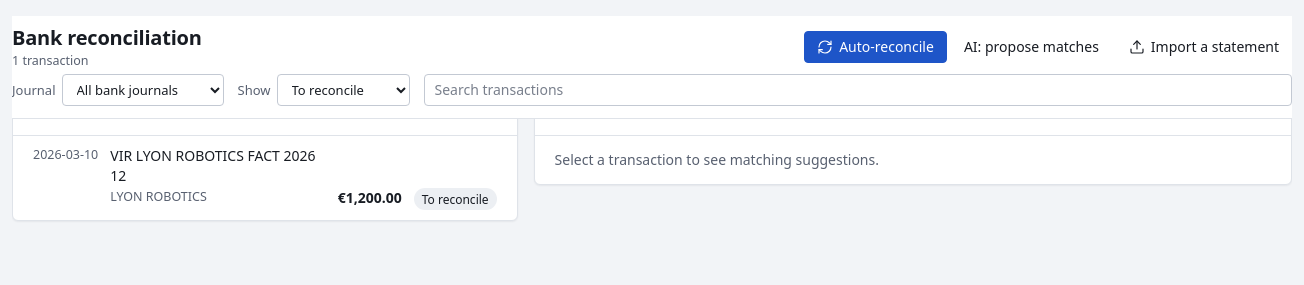
Test: AI suggestions in bank reconciliation › proposes matches for the open transactions of the journal
The width and height of the screenshot is (1304, 285).
Select "Bank (BNK1)" in the dropdown labelled "Journal": [142, 90] box x1=62 y1=74 x2=224 y2=106
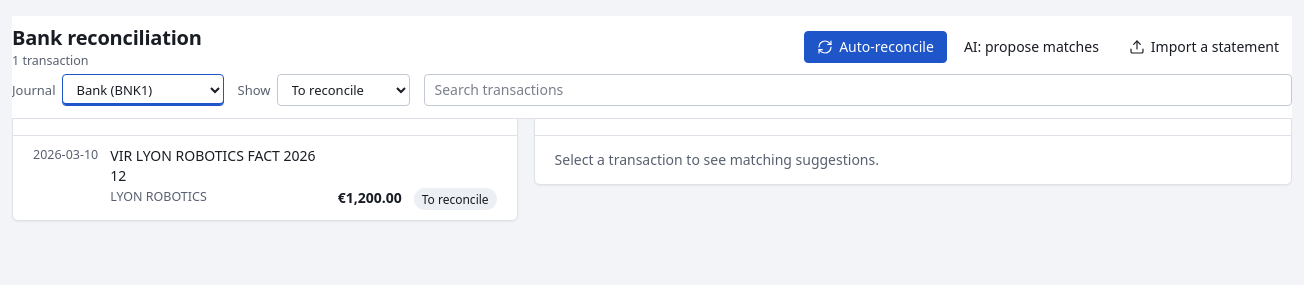
Click the button "AI: propose matches": [1031, 47] box x1=951 y1=31 x2=1112 y2=63
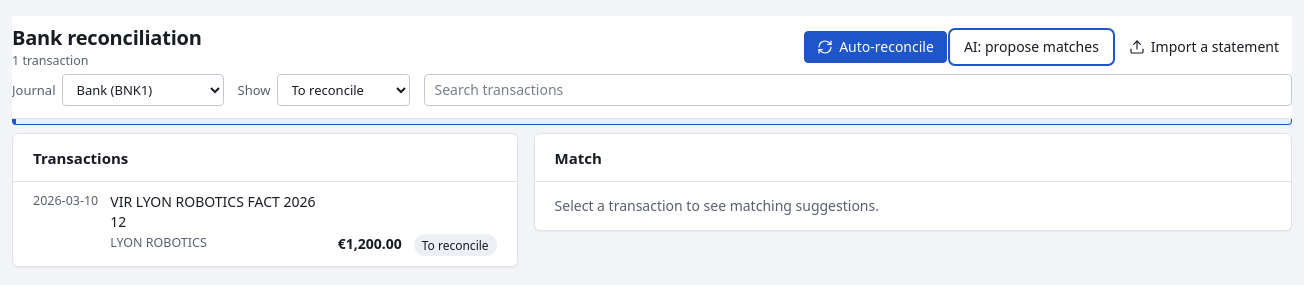
Now the text "3 match proposals to review" is shown, box x1=12 y1=87 x2=1292 y2=125
